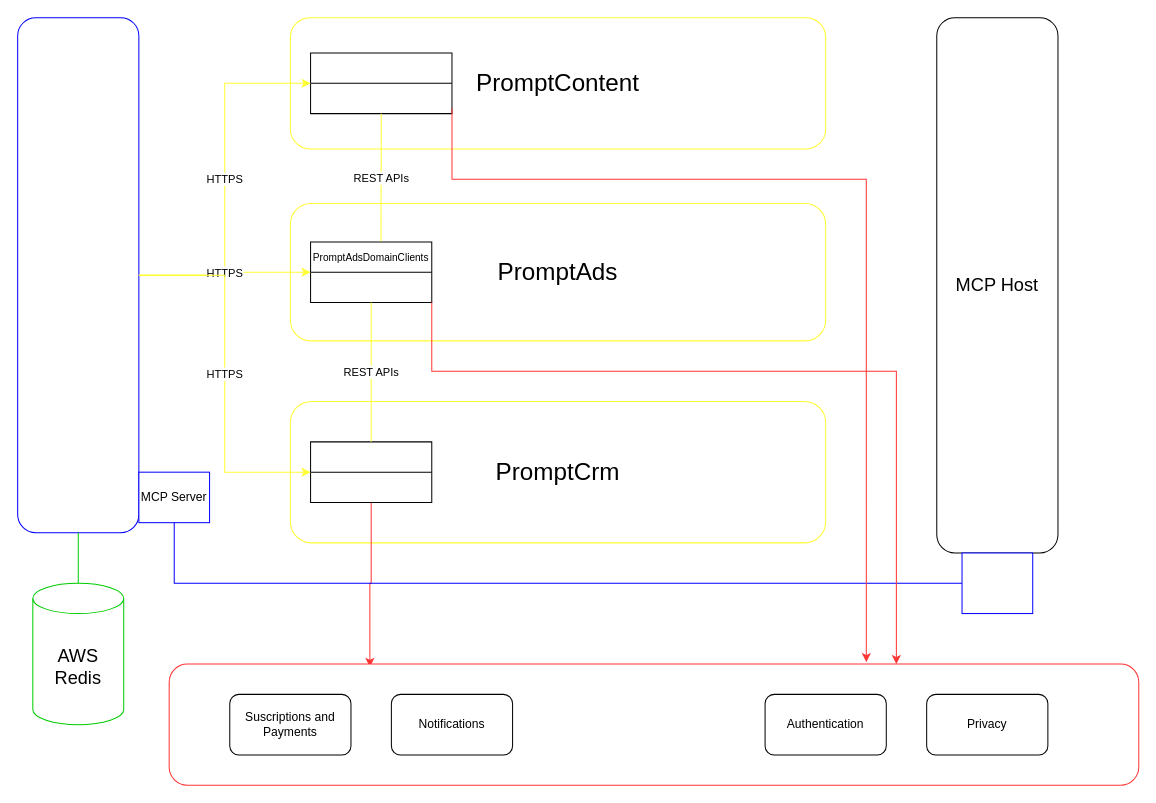
This 1156x803 diagram has some shape labels left out. The box of each missing label's shape, as (x1, y1, x2, y2) in pixels:
Global Domains: (168, 663, 1139, 785)
MCP Client: (961, 552, 1033, 614)
Portal Web (Vercel Deploy): (17, 17, 139, 533)
PromptContentDomainClients: (310, 52, 452, 114)
PromptCrmDomainClients: (310, 441, 432, 502)
